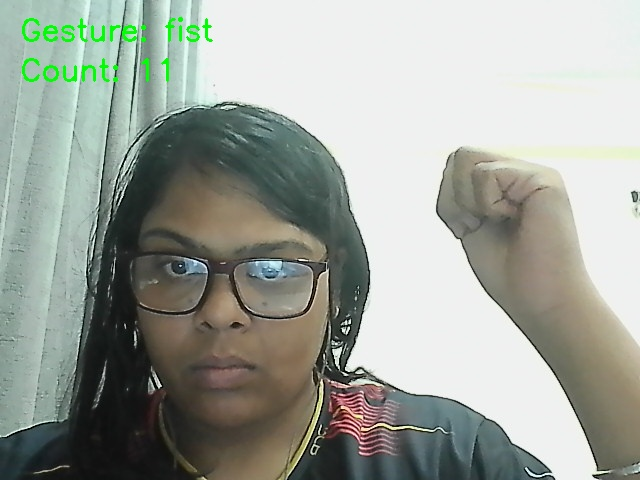fist: (409, 91, 622, 326)
